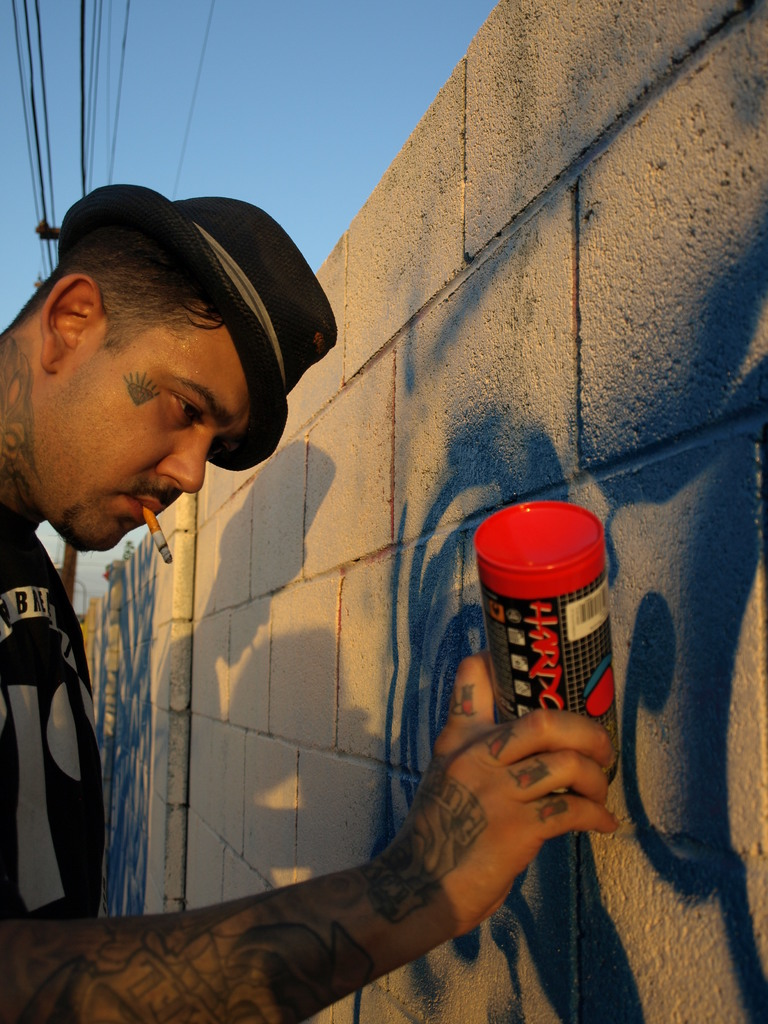hats: (1, 184, 338, 553)
